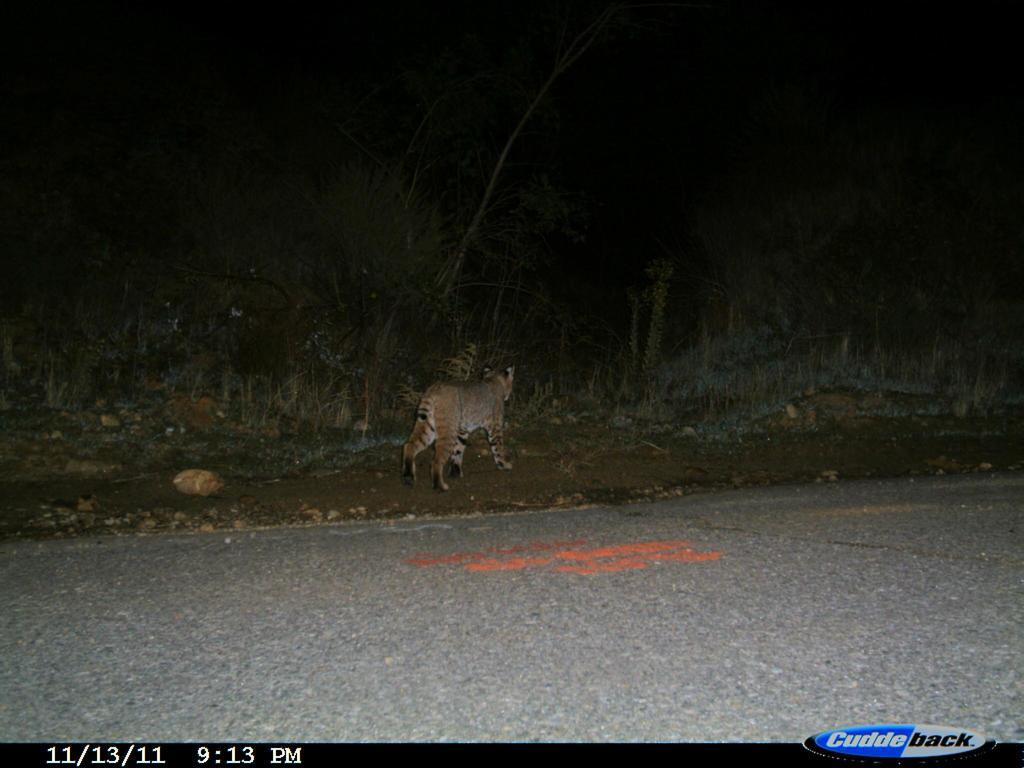bobcat: (392, 353, 560, 501)
